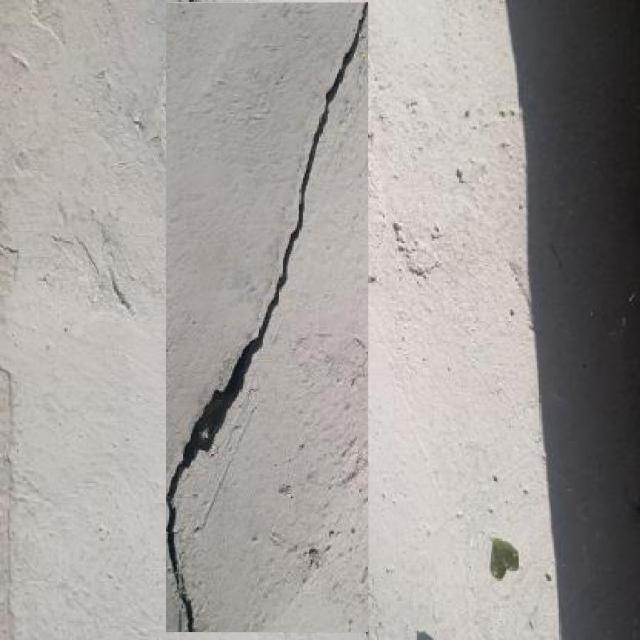diagonal crack: (166, 4, 368, 632)
